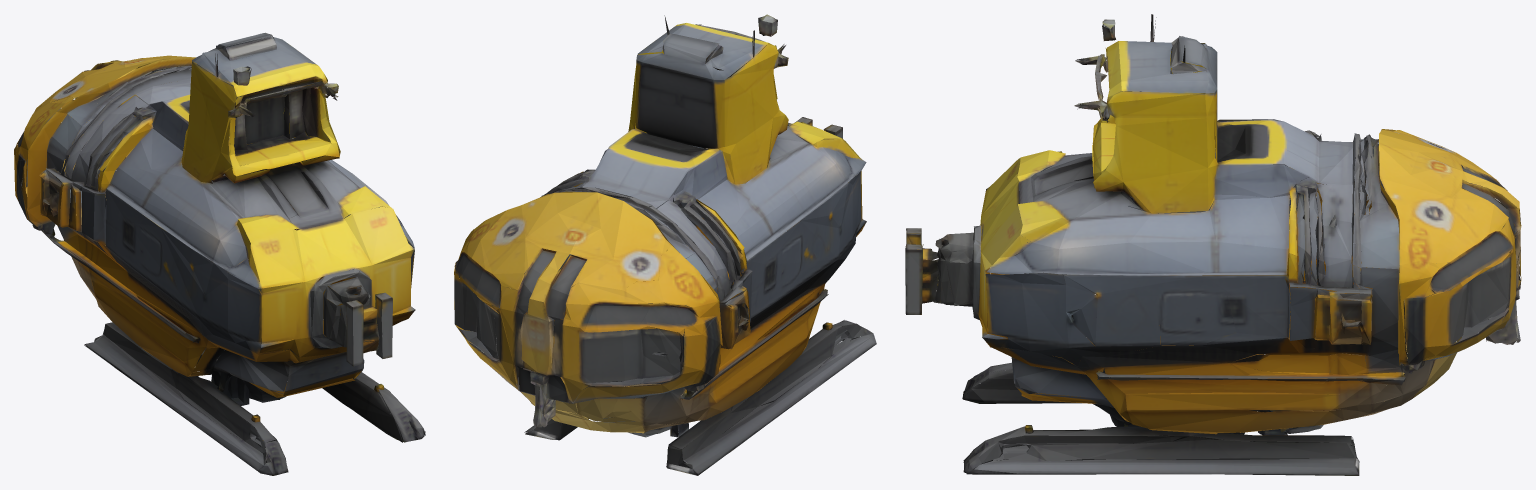
File: sub_hauler.fbx
3 views of the same model, side by side, from view 1: azimuth 30°, elevation 25°; view 2: azimuth 150°, elevation 25°; view 3: azimuth 270°, elevation 25° (orthographic). The views are drawn at different scales.
Visible parts, largest first — view 1: sub_hauler; view 2: sub_hauler; view 3: sub_hauler.
Boxes of the visible parts, left/top/right/bottom form: sub_hauler: left=14, top=32, right=425, bottom=475; sub_hauler: left=454, top=14, right=876, bottom=475; sub_hauler: left=905, top=14, right=1521, bottom=475.
Bounding box in the file's own units: 1.59 × 2.2 × 3.
Materials: 1 (1 with a texture image).
